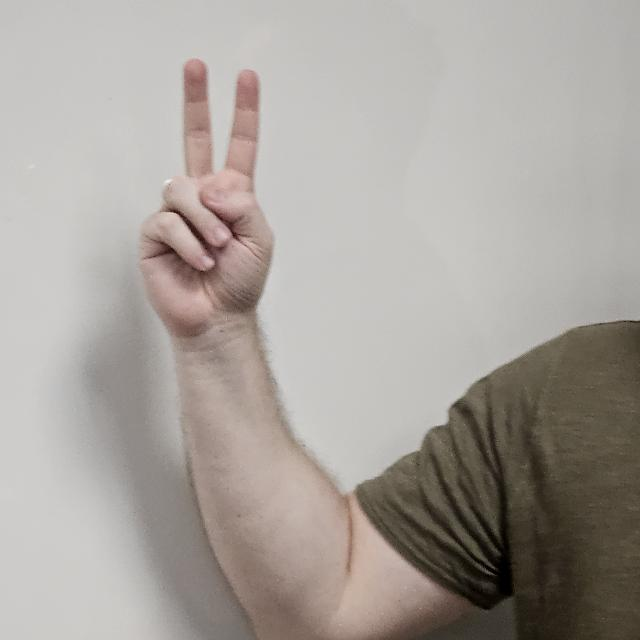Triangulo: (136, 58, 278, 362)
